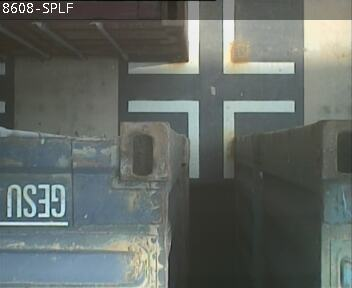groundmarker_1: (128, 99, 295, 179), (127, 1, 295, 74)
